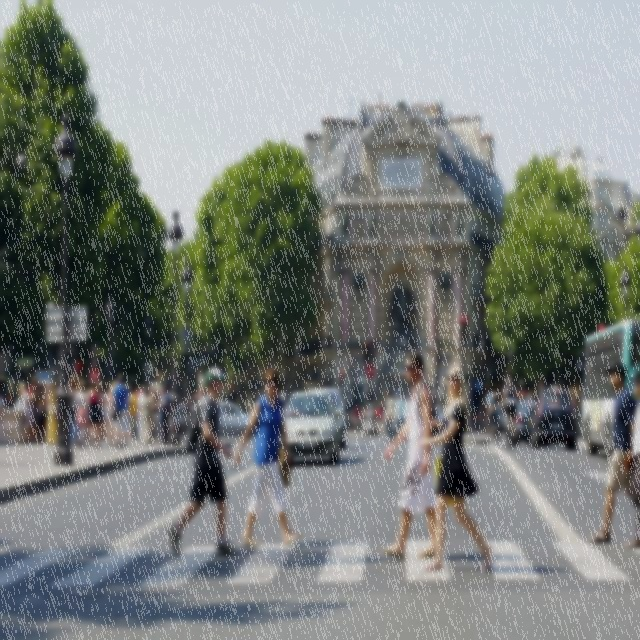pessoa: (415, 360, 503, 576), (164, 362, 242, 564), (231, 364, 304, 552), (382, 350, 440, 560), (590, 358, 636, 544), (176, 536, 388, 572), (388, 272, 419, 352), (626, 368, 639, 550), (285, 388, 342, 420), (370, 116, 434, 144), (19, 384, 46, 446), (499, 374, 521, 446), (582, 355, 617, 398), (110, 374, 130, 449), (72, 379, 92, 451), (88, 378, 104, 448), (388, 390, 408, 442), (22, 382, 36, 444), (484, 387, 500, 441), (380, 216, 424, 235), (45, 381, 58, 445), (0, 358, 7, 473), (68, 375, 79, 447), (158, 384, 170, 446), (108, 379, 119, 446), (142, 387, 154, 445), (106, 394, 119, 447), (149, 384, 160, 446), (122, 383, 132, 447), (104, 384, 115, 442), (96, 381, 105, 448), (128, 386, 138, 446), (40, 382, 49, 443), (36, 383, 45, 443), (68, 380, 76, 447), (384, 390, 394, 442), (133, 384, 142, 441), (16, 376, 40, 396), (134, 383, 142, 441), (426, 206, 437, 240), (367, 205, 378, 238), (158, 386, 164, 442), (340, 206, 350, 239), (455, 204, 464, 239), (222, 404, 242, 418), (380, 398, 388, 432), (359, 405, 367, 432), (354, 403, 361, 432), (46, 384, 52, 413), (52, 398, 58, 424), (438, 114, 447, 131), (14, 394, 24, 409), (76, 373, 85, 389), (366, 400, 376, 414), (474, 411, 479, 433), (519, 390, 527, 403), (86, 418, 90, 442), (346, 411, 350, 432), (358, 116, 364, 130), (102, 386, 108, 394), (8, 402, 13, 408), (155, 390, 159, 396), (86, 388, 90, 394), (57, 381, 60, 388)
